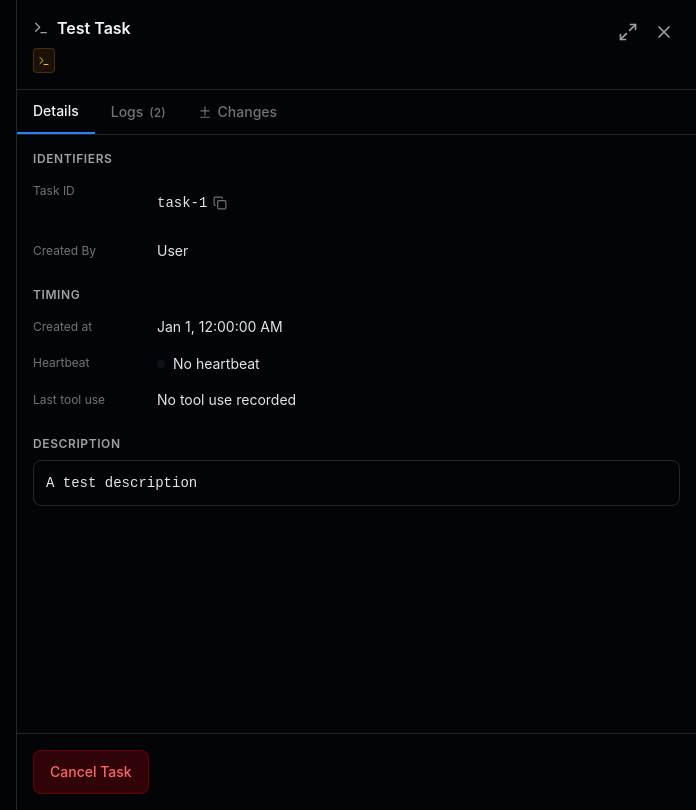
it: TaskDetailDrawer › log level ERROR filter hides WARN lines
This screenshot has width=696, height=810.
Click the button "Logs(2)" at (138, 112), box [95, 90, 182, 134]
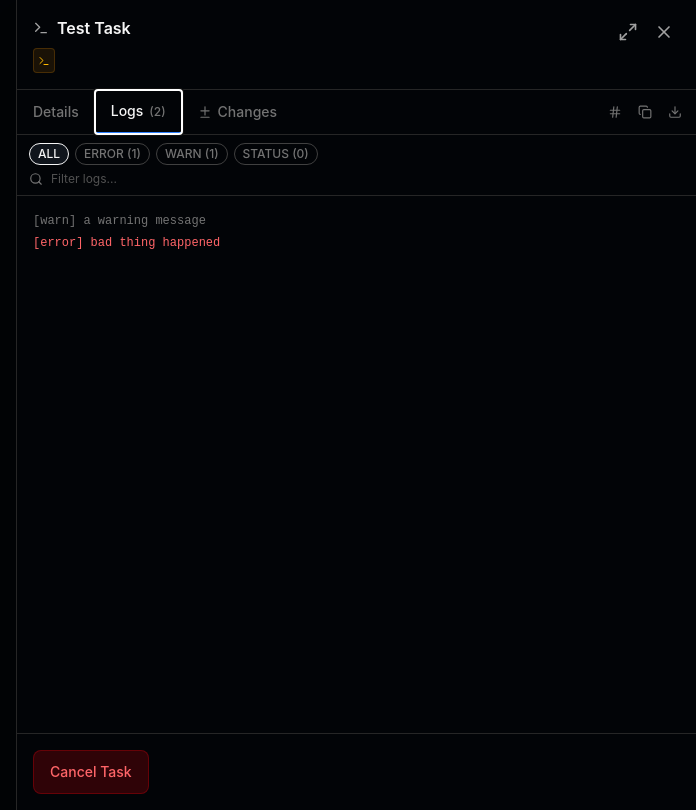
ERROR button text includes the count
Click the button "ERROR (1)" at (112, 154), box [75, 143, 150, 165]
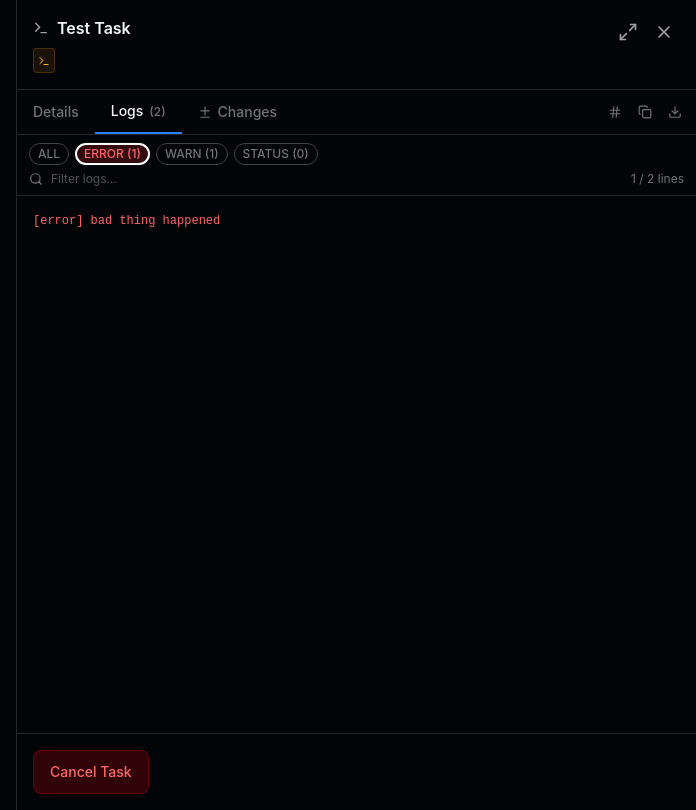
Expected: the text "[error] bad thing happened" is shown, [33, 214, 220, 228]
Expected: the text "[warn] a warning message" is gone
